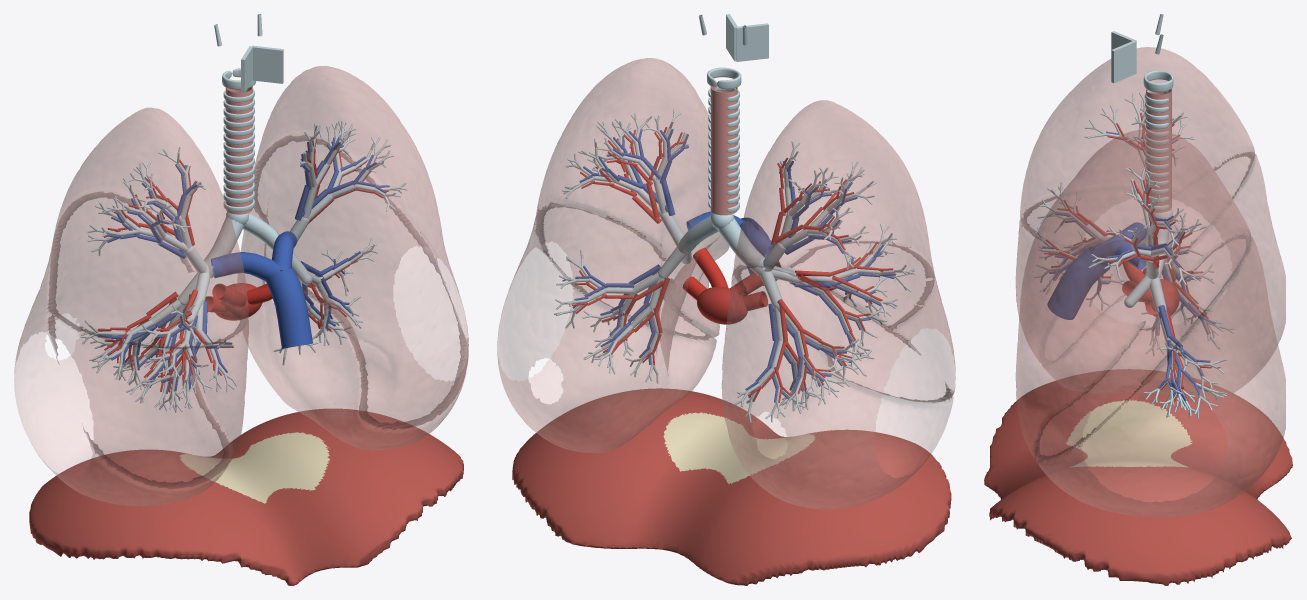
Rendered from pulmones.glb.
The picture shows the model from 3 angles, left to right: view 1: azimuth 30°, elevation 25°; view 2: azimuth 150°, elevation 25°; view 3: azimuth 270°, elevation 25°; orthographic projection. The views are drawn at different scales.
Visible parts, largest first — view 1: diaphragm, lul, rll, rul, lll, rml, bronchial_tree, lingula, central_tendon, pa_branches, pv_branches, pa_trunk (+8 smaller); view 2: diaphragm, rll, lll, rul, lul, rml, bronchial_tree, pv_branches, pa_branches, central_tendon, lingula, trachea (+7 smaller); view 3: lul, diaphragm, lll, rul, rll, bronchial_tree, central_tendon, lingula, rml, pa_branches, pv_branches, pa_trunk (+6 smaller).
Boxes of the visible parts, x1,y1,x2,y2 form: diaphragm: (29, 408, 463, 585); lul: (253, 66, 465, 363); rll: (14, 192, 231, 506); rul: (47, 107, 248, 348); lll: (237, 135, 467, 450); rml: (48, 289, 248, 489); bronchial_tree: (80, 120, 407, 412); lingula: (346, 305, 468, 429); central_tendon: (179, 432, 329, 503); pa_branches: (97, 135, 389, 393); pv_branches: (97, 138, 388, 392); pa_trunk: (266, 269, 312, 348); diaphragm: (512, 388, 951, 585); rll: (721, 265, 953, 509); lll: (497, 203, 716, 452); rul: (733, 100, 934, 330); lul: (536, 58, 729, 289); rml: (745, 240, 955, 402); bronchial_tree: (554, 108, 915, 422); pv_branches: (572, 127, 896, 402); pa_branches: (572, 129, 895, 402); central_tendon: (663, 412, 815, 484); lingula: (560, 248, 719, 338); trachea: (710, 82, 737, 215); lul: (1016, 129, 1251, 416); diaphragm: (984, 369, 1292, 585); lll: (1034, 234, 1285, 517); rul: (1020, 47, 1254, 251); rll: (1042, 152, 1285, 397); bronchial_tree: (1030, 92, 1234, 418); central_tendon: (1066, 399, 1192, 467); lingula: (1015, 361, 1110, 461); rml: (1015, 195, 1125, 364); pa_branches: (1042, 127, 1215, 401); pv_branches: (1044, 112, 1211, 401); pa_trunk: (1047, 246, 1110, 319).
Size of the model in its own units: 0.3038 by 0.3553 by 0.2085.
